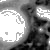node: (1, 8, 28, 44)
